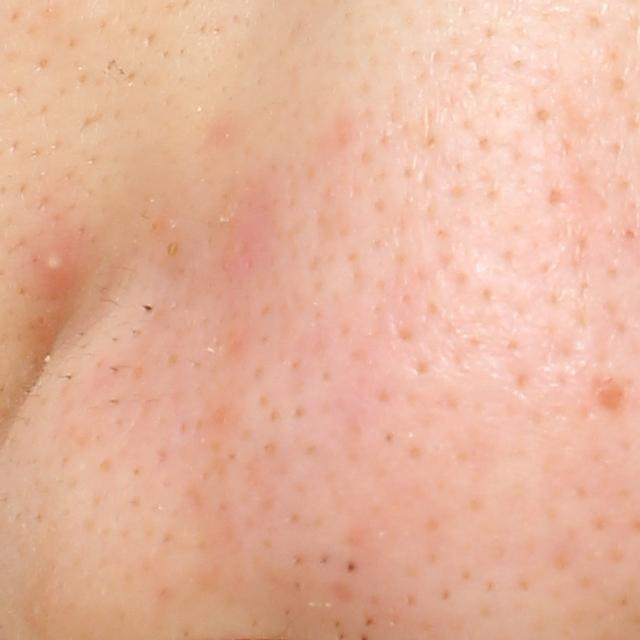pustule: (32, 233, 84, 284)
